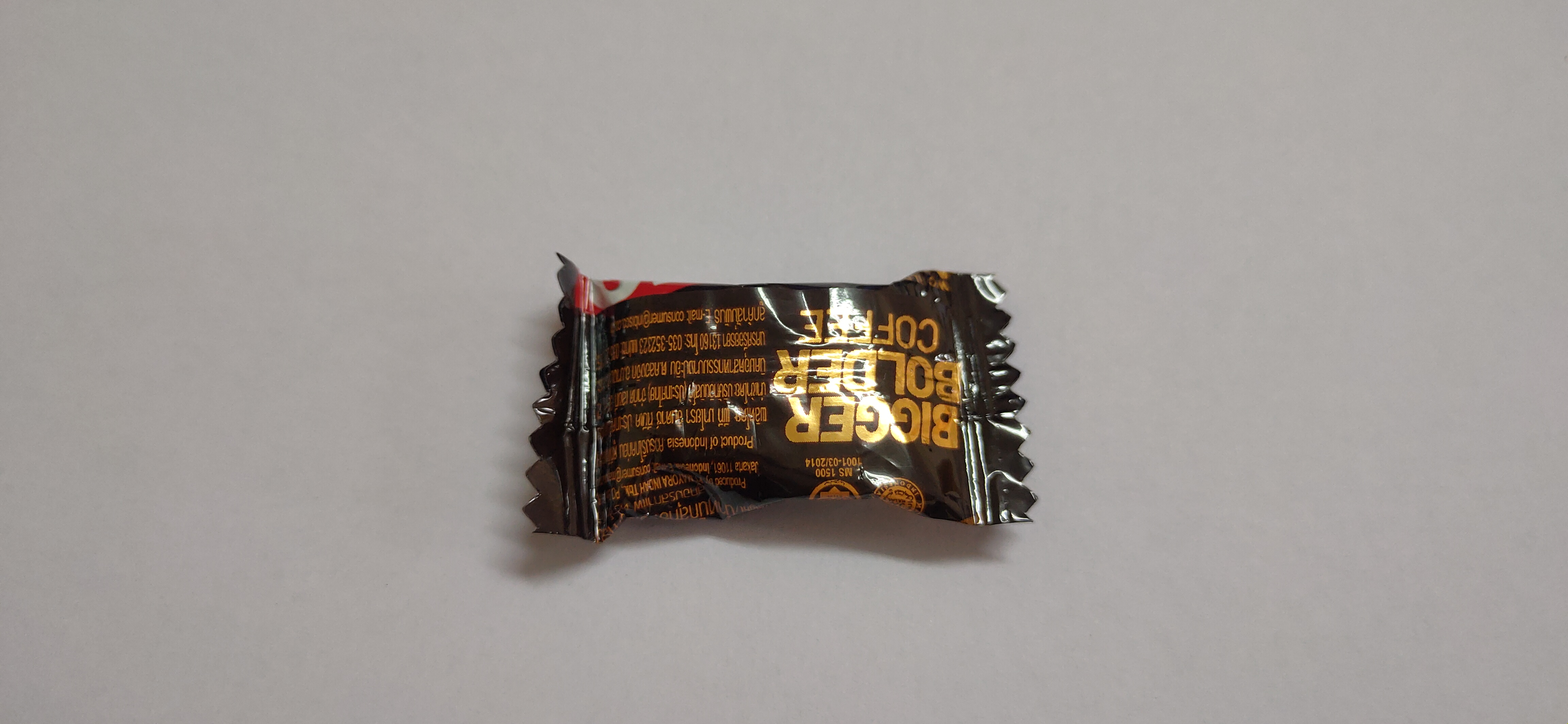plastic: (518, 242, 1057, 573)
